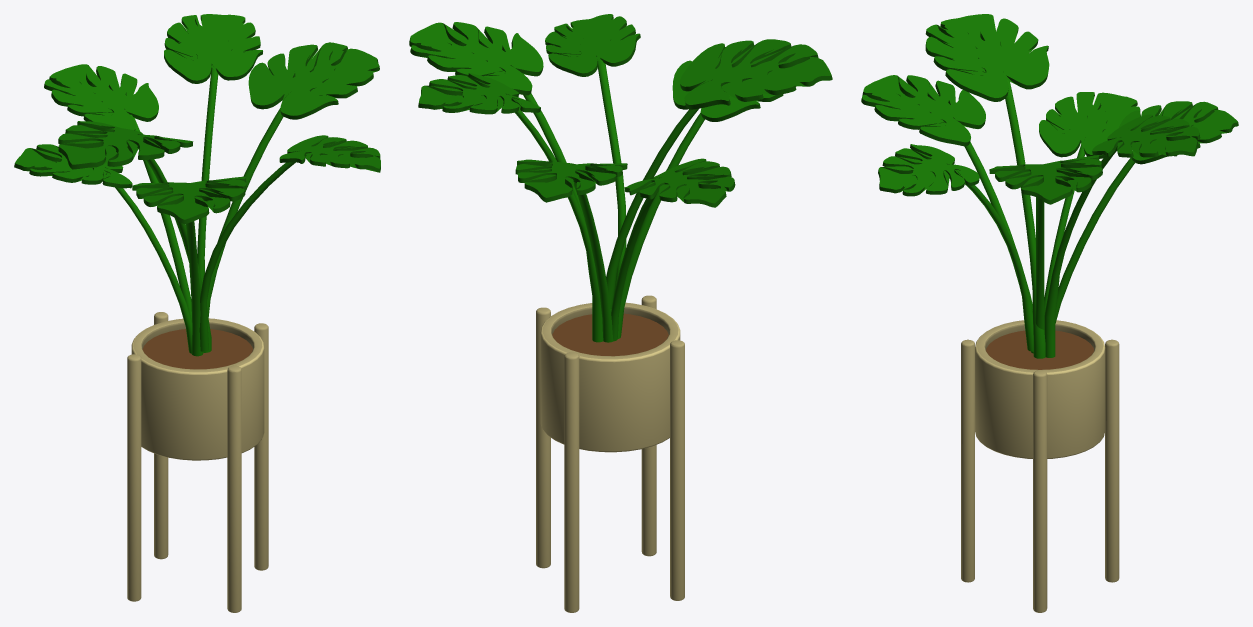
Rendered from Plant.fbx.
3 views of the same model, side by side, from view 1: azimuth 30°, elevation 25°; view 2: azimuth 150°, elevation 25°; view 3: azimuth 270°, elevation 25° (orthographic). The views are drawn at different scales.
Parts seen in each view (by area): view 1: Vase, Plant.006, Plant, Plant.001, Plant.002, Plant.004, Plant.005, Plant.003, Vase.001, Vase.002, Vase.003, Vase.004; view 2: Vase, Plant.002, Plant.006, Plant.005, Plant, Plant.001, Plant.003, Vase.004, Vase.001, Plant.004, Vase.003, Vase.002; view 3: Vase, Plant.002, Plant.004, Plant.005, Plant, Plant.003, Plant.006, Plant.001, Vase.004, Vase.003, Vase.002.
Boxes of the visible parts, x1=… form: Vase: x1=131, y1=318, x2=264, y2=460; Plant.006: x1=203, y1=42, x2=379, y2=353; Plant: x1=164, y1=14, x2=262, y2=283; Plant.001: x1=44, y1=64, x2=191, y2=320; Plant.002: x1=58, y1=121, x2=211, y2=352; Plant.004: x1=132, y1=176, x2=246, y2=356; Plant.005: x1=199, y1=135, x2=380, y2=351; Plant.003: x1=14, y1=144, x2=192, y2=353; Vase.001: x1=127, y1=354, x2=141, y2=601; Vase.002: x1=227, y1=365, x2=241, y2=612; Vase.003: x1=254, y1=323, x2=268, y2=570; Vase.004: x1=154, y1=312, x2=168, y2=559; Vase: x1=540, y1=302, x2=680, y2=452; Plant.002: x1=606, y1=39, x2=832, y2=308; Plant.006: x1=409, y1=22, x2=611, y2=311; Plant.005: x1=545, y1=14, x2=640, y2=300; Plant: x1=418, y1=73, x2=603, y2=342; Plant.001: x1=515, y1=159, x2=627, y2=342; Plant.003: x1=611, y1=158, x2=735, y2=341; Vase.004: x1=564, y1=352, x2=579, y2=612; Vase.001: x1=670, y1=340, x2=684, y2=600; Plant.004: x1=617, y1=47, x2=796, y2=338; Vase.003: x1=536, y1=307, x2=550, y2=568; Vase.002: x1=641, y1=295, x2=656, y2=556; Vase: x1=975, y1=320, x2=1105, y2=458; Plant.002: x1=925, y1=14, x2=1049, y2=358; Plant.004: x1=861, y1=75, x2=1033, y2=353; Plant.005: x1=878, y1=144, x2=1033, y2=351; Plant: x1=1044, y1=114, x2=1200, y2=357; Plant.003: x1=1039, y1=92, x2=1140, y2=312; Plant.006: x1=989, y1=155, x2=1102, y2=329; Plant.001: x1=1055, y1=101, x2=1238, y2=323; Vase.004: x1=1105, y1=339, x2=1119, y2=582; Vase.003: x1=1033, y1=370, x2=1047, y2=612; Vase.002: x1=961, y1=339, x2=974, y2=582.
Size of the model in its own units: 356 by 480 by 336.
